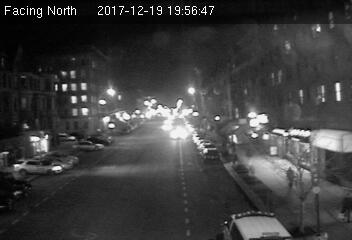pedestrian: (283, 164, 296, 190)
police: (220, 210, 288, 240)
